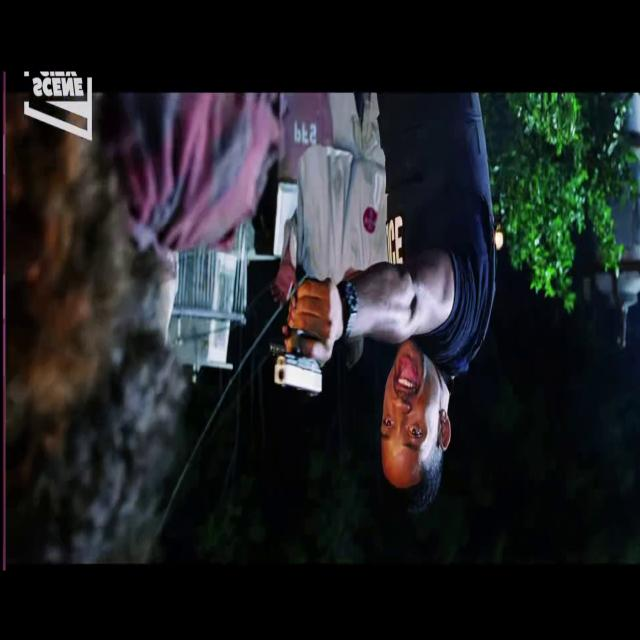weapons: (265, 274, 330, 422)
